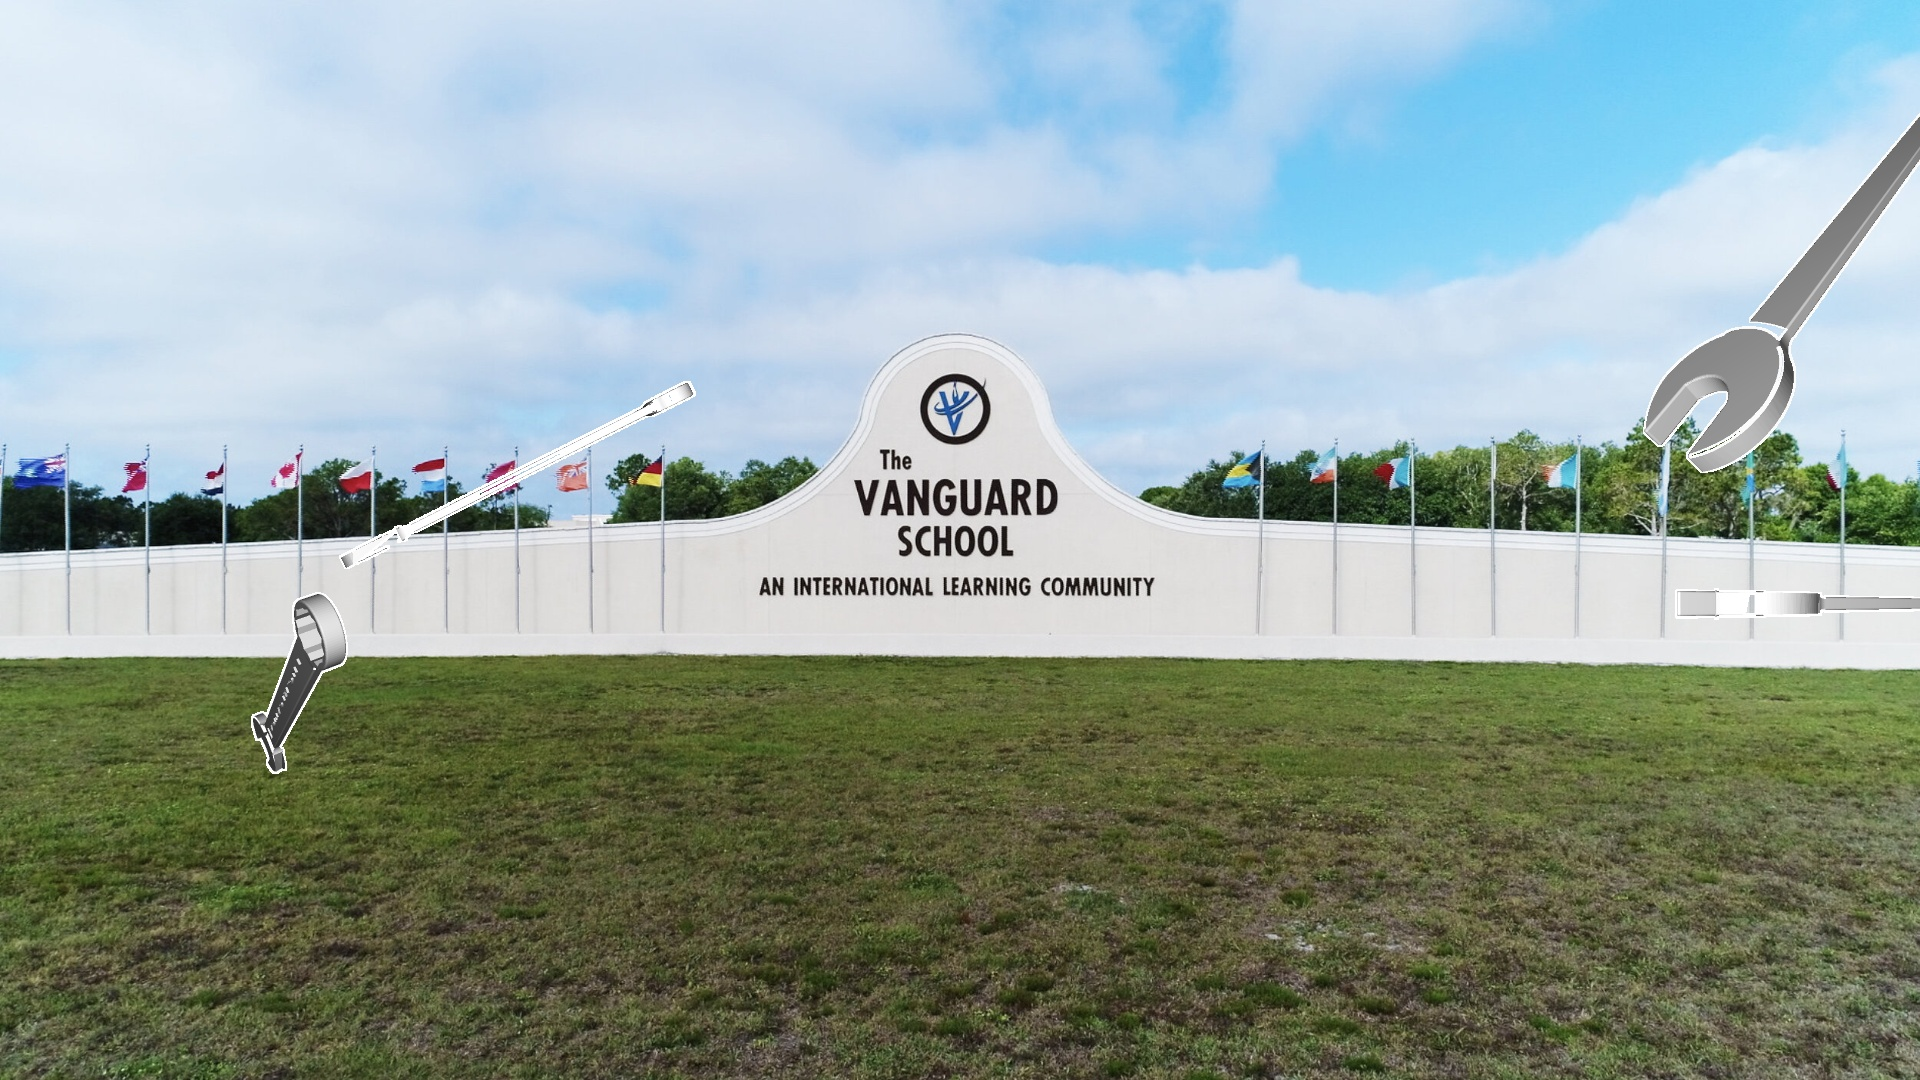Mixed Key: (1643, 113, 1919, 472), (339, 381, 695, 568), (251, 592, 347, 773), (1675, 588, 1919, 618)
